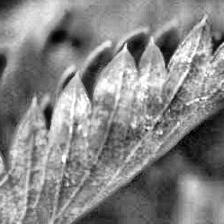Powdery Mildew Leaf: (0, 14, 224, 224)
